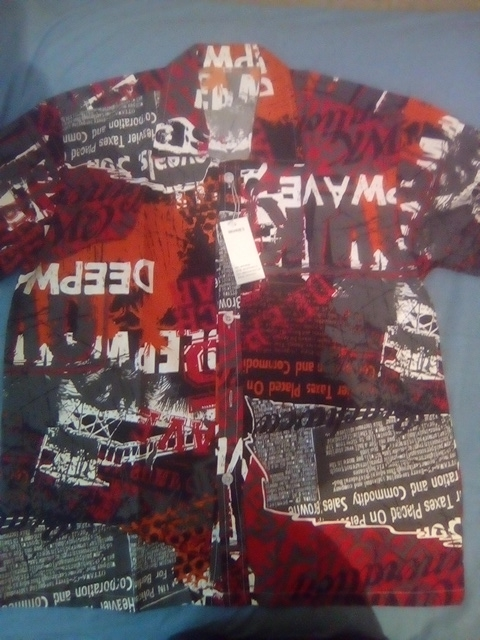shirts: (18, 41, 468, 596)
